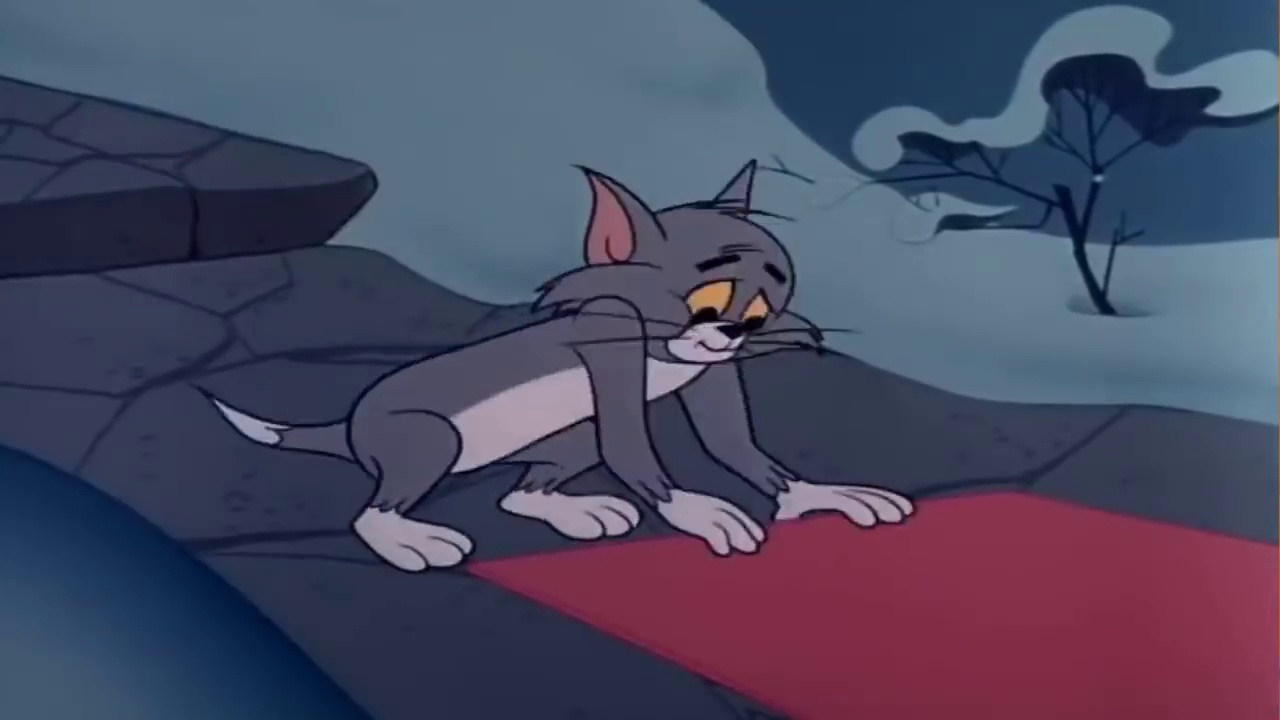face: (659, 240, 790, 362)
